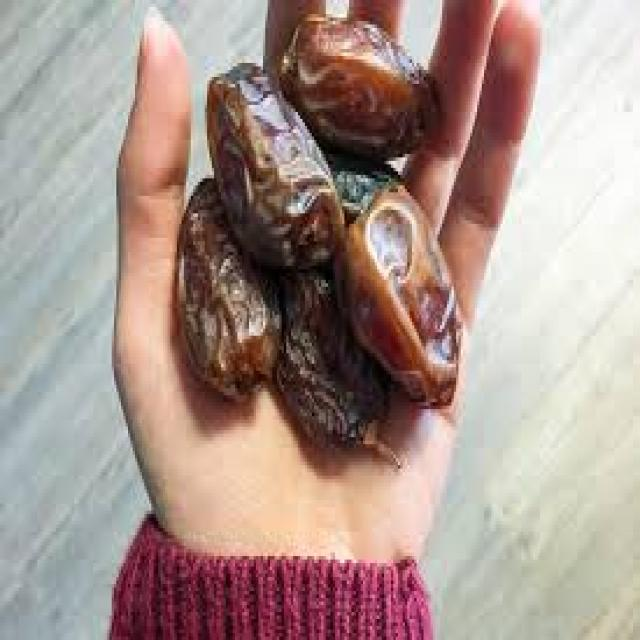organic waste: (335, 175, 461, 406), (205, 59, 342, 256), (175, 164, 279, 392), (277, 7, 437, 154), (279, 255, 384, 451), (326, 147, 400, 238)
